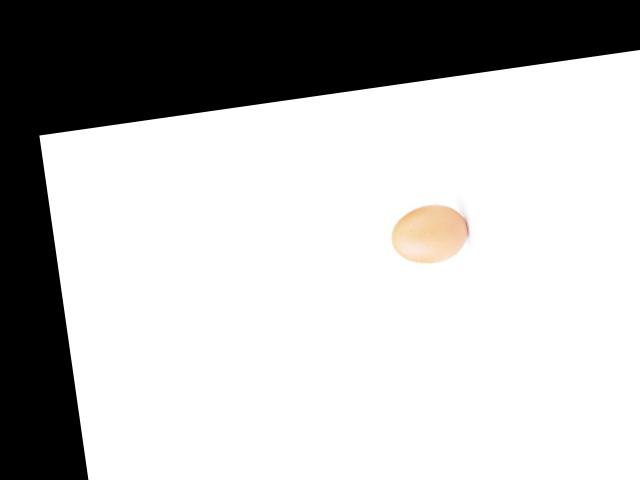egg: (388, 200, 470, 267)
